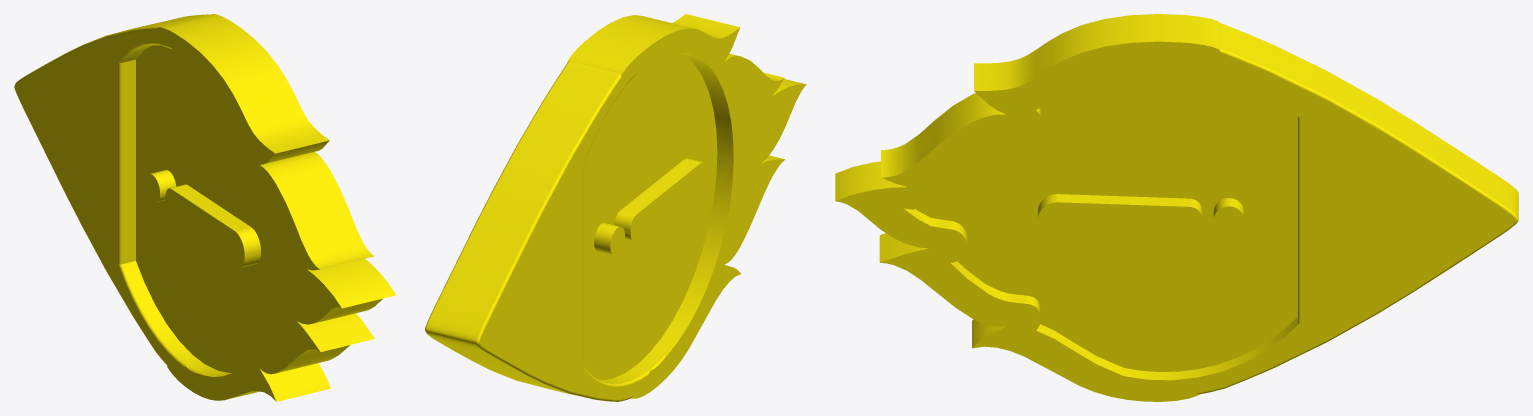
The model's file is ICONO Fuego color.fbx.
3 renders of one model, left to right at view 1: azimuth 30°, elevation 25°; view 2: azimuth 150°, elevation 25°; view 3: azimuth 270°, elevation 25°, orthographic. The views are drawn at different scales.
Parts seen in each view (by area): view 1: Body2; view 2: Body2; view 3: Body2.
Part boxes in pixels (x1,y1,x2,y2): Body2: (14, 14, 395, 401); Body2: (425, 14, 806, 401); Body2: (835, 14, 1518, 401).
Size of the model in its own units: 112 by 684 by 1176.
